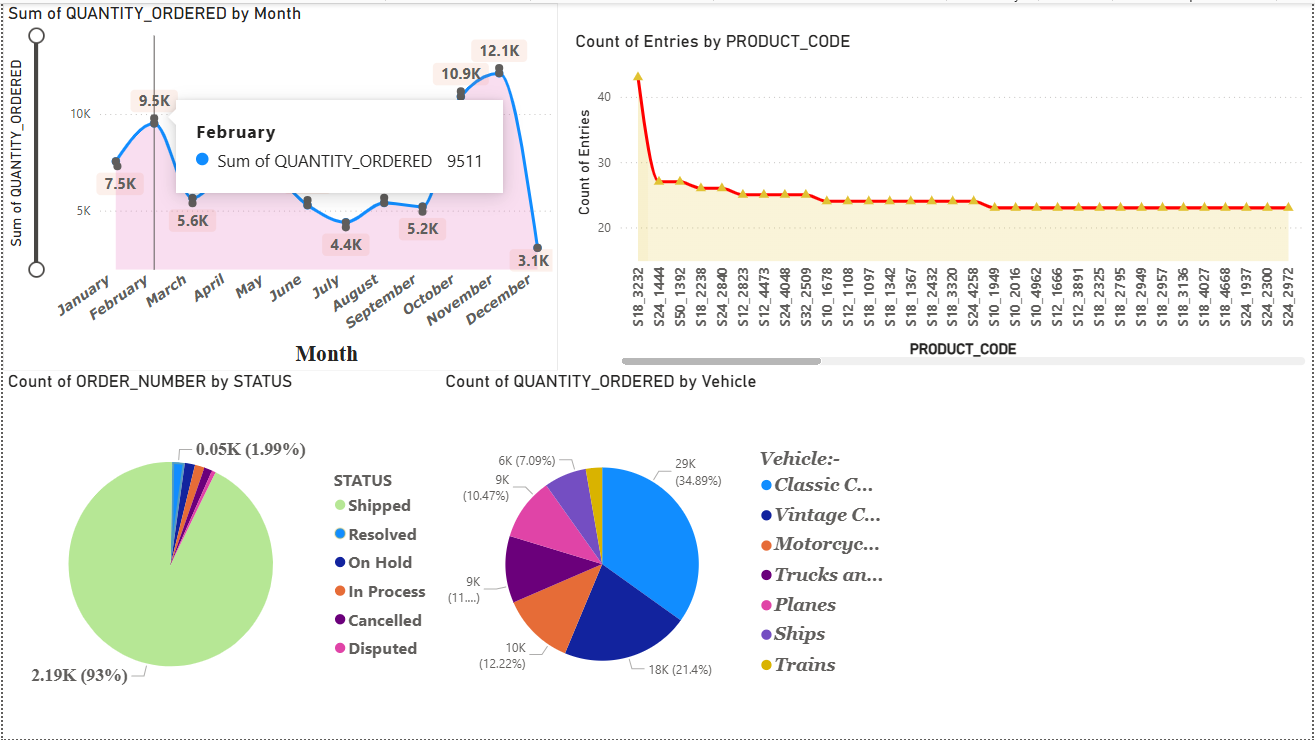

This screenshot's page, from the dashboard's own definition file:
{"tool":"powerbi","page":{"name":"Page 1","canvas":[1280,720],"ordinal":0},"visuals":[{"type":"lineChart","fields":{"Y":["Sum(Sales_Data1 (2).QUANTITYORDERED)"],"Category":["Sales_Data1 (2).ORDERDATE.1.Variation.Date Hierarchy.Month"]},"box":[0,0,486.7,359.5],"z":0},{"type":"lineChart","fields":{"Category":["Sales_Data1 (2).PRODUCTCODE"],"Y":["CountNonNull(Sales_Data1 (2).PRICEEACH)"]},"box":[486.7,0,390.1,359.5],"z":1000},{"type":"pieChart","fields":{"Category":["Sales_Data1 (2).STATUS"],"Y":["CountNonNull(Sales_Data1 (2).ORDERNUMBER)"]},"box":[0,360,427.5,360],"z":2000},{"type":"pieChart","fields":{"Category":["Sales_Data1 (2).PRODUCTLINE"],"Y":["Sum(Sales_Data1 (2).QUANTITYORDERED)"]},"box":[427.5,360,448.8,360],"z":3000},{"type":"pieChart","fields":{"Category":["Sales_Data1 (2).STATE"],"Y":["Sum(Sales_Data1 (2).QUANTITYORDERED)"]},"box":[877,360,402,360],"z":3001},{"type":"waterfallChart","fields":{"Category":["Sales_Data1 (2).ORDERDATE.1.Variation.Date Hierarchy.Year"],"Y":["Sum(Sales_Data1 (2).QUANTITYORDERED)"]},"box":[877,0,402,360],"z":3002}]}

Visuals, with their boxes in screenshot pixels (x1, y1, x2, y2), scaled from the page's 1280x720 canvas onto the 1315x740 screenshot:
lineChart - Sum(Sales_Data1 (2).QUANTITYORDERED) x Sales_Data1 (2).ORDERDATE.1.Variation.Date Hierarchy.Month: {"left": 0, "top": 0, "right": 500, "bottom": 369}
lineChart - Sales_Data1 (2).PRODUCTCODE x CountNonNull(Sales_Data1 (2).PRICEEACH): {"left": 500, "top": 0, "right": 901, "bottom": 369}
pieChart - Sales_Data1 (2).STATUS x CountNonNull(Sales_Data1 (2).ORDERNUMBER): {"left": 0, "top": 370, "right": 439, "bottom": 739}
pieChart - Sales_Data1 (2).PRODUCTLINE x Sum(Sales_Data1 (2).QUANTITYORDERED): {"left": 439, "top": 370, "right": 900, "bottom": 739}
pieChart - Sales_Data1 (2).STATE x Sum(Sales_Data1 (2).QUANTITYORDERED): {"left": 901, "top": 370, "right": 1314, "bottom": 739}
waterfallChart - Sales_Data1 (2).ORDERDATE.1.Variation.Date Hierarchy.Year x Sum(Sales_Data1 (2).QUANTITYORDERED): {"left": 901, "top": 0, "right": 1314, "bottom": 370}
